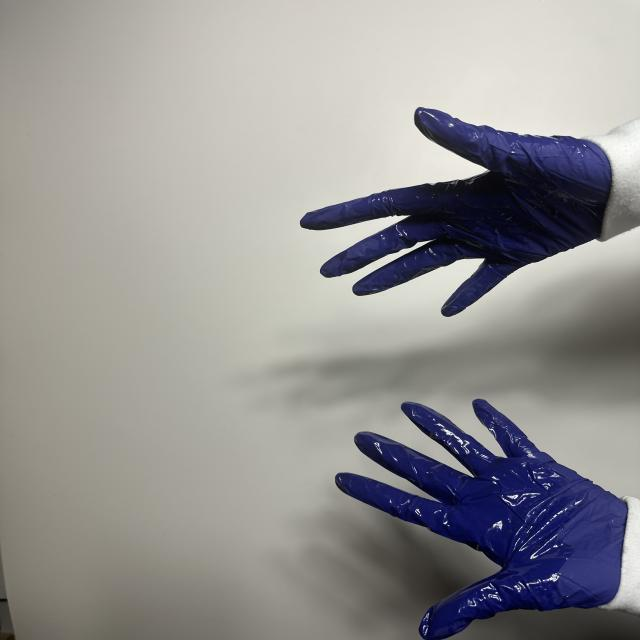gloves_contaminated: (336, 400, 627, 640), (301, 109, 612, 316)
